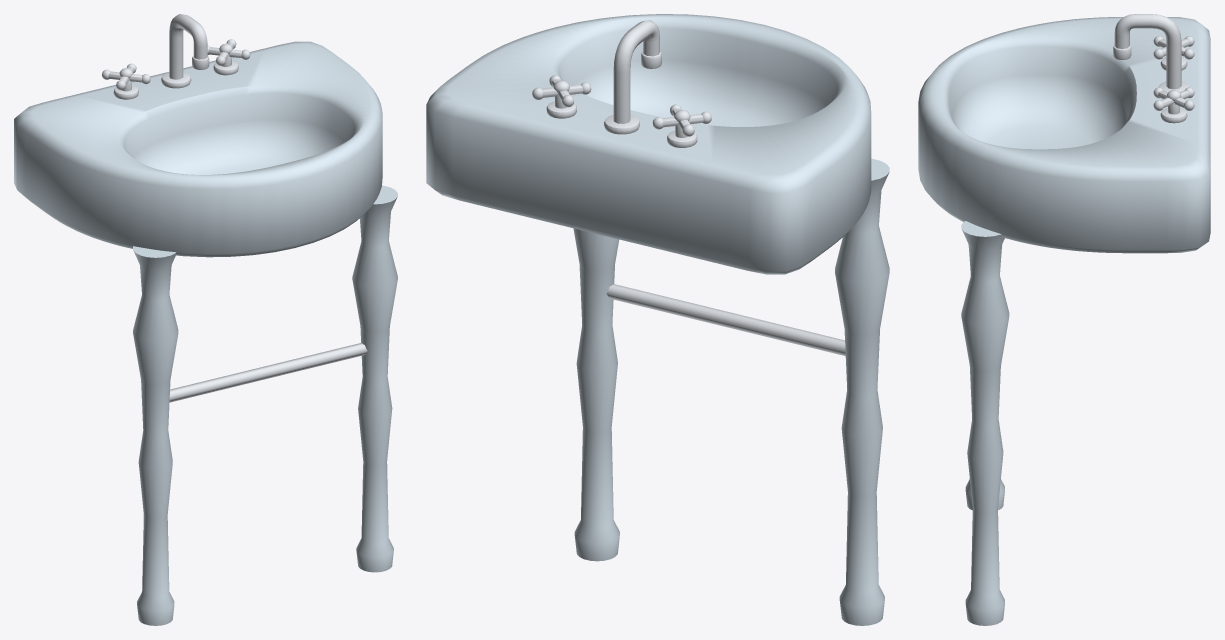
File: pia_console_azul.glb
The picture shows the model from 3 angles, left to right: view 1: azimuth 30°, elevation 25°; view 2: azimuth 150°, elevation 25°; view 3: azimuth 270°, elevation 25°; orthographic projection. The views are drawn at different scales.
Visible parts, largest first — view 1: pia_console_azul; view 2: pia_console_azul; view 3: pia_console_azul.
Boxes of the visible parts, left/top/right/bottom form: pia_console_azul: left=14, top=14, right=397, bottom=625; pia_console_azul: left=426, top=14, right=889, bottom=625; pia_console_azul: left=918, top=14, right=1210, bottom=625.
Bounding box in the file's own units: 0.62 × 0.9925 × 0.48.
1 material, 1 textured.
